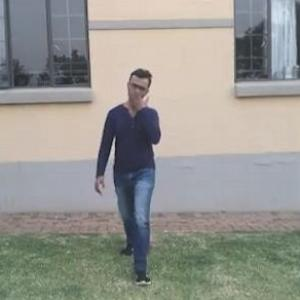follow: (108, 69, 166, 256)
